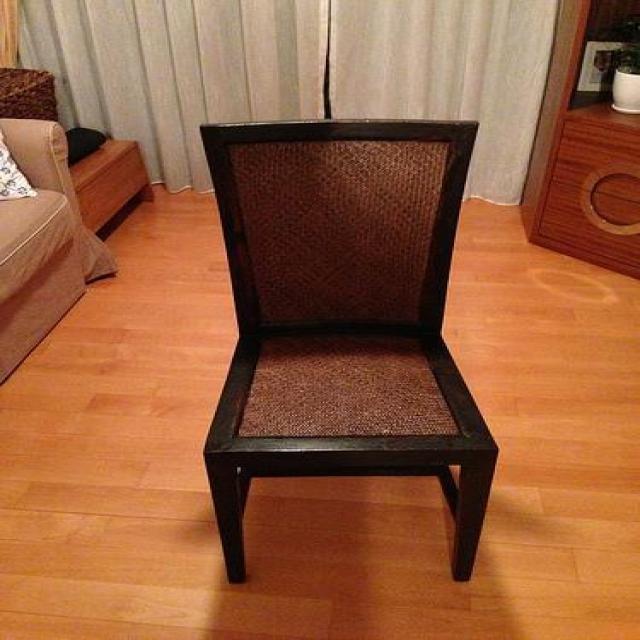chair: (198, 117, 500, 584)
